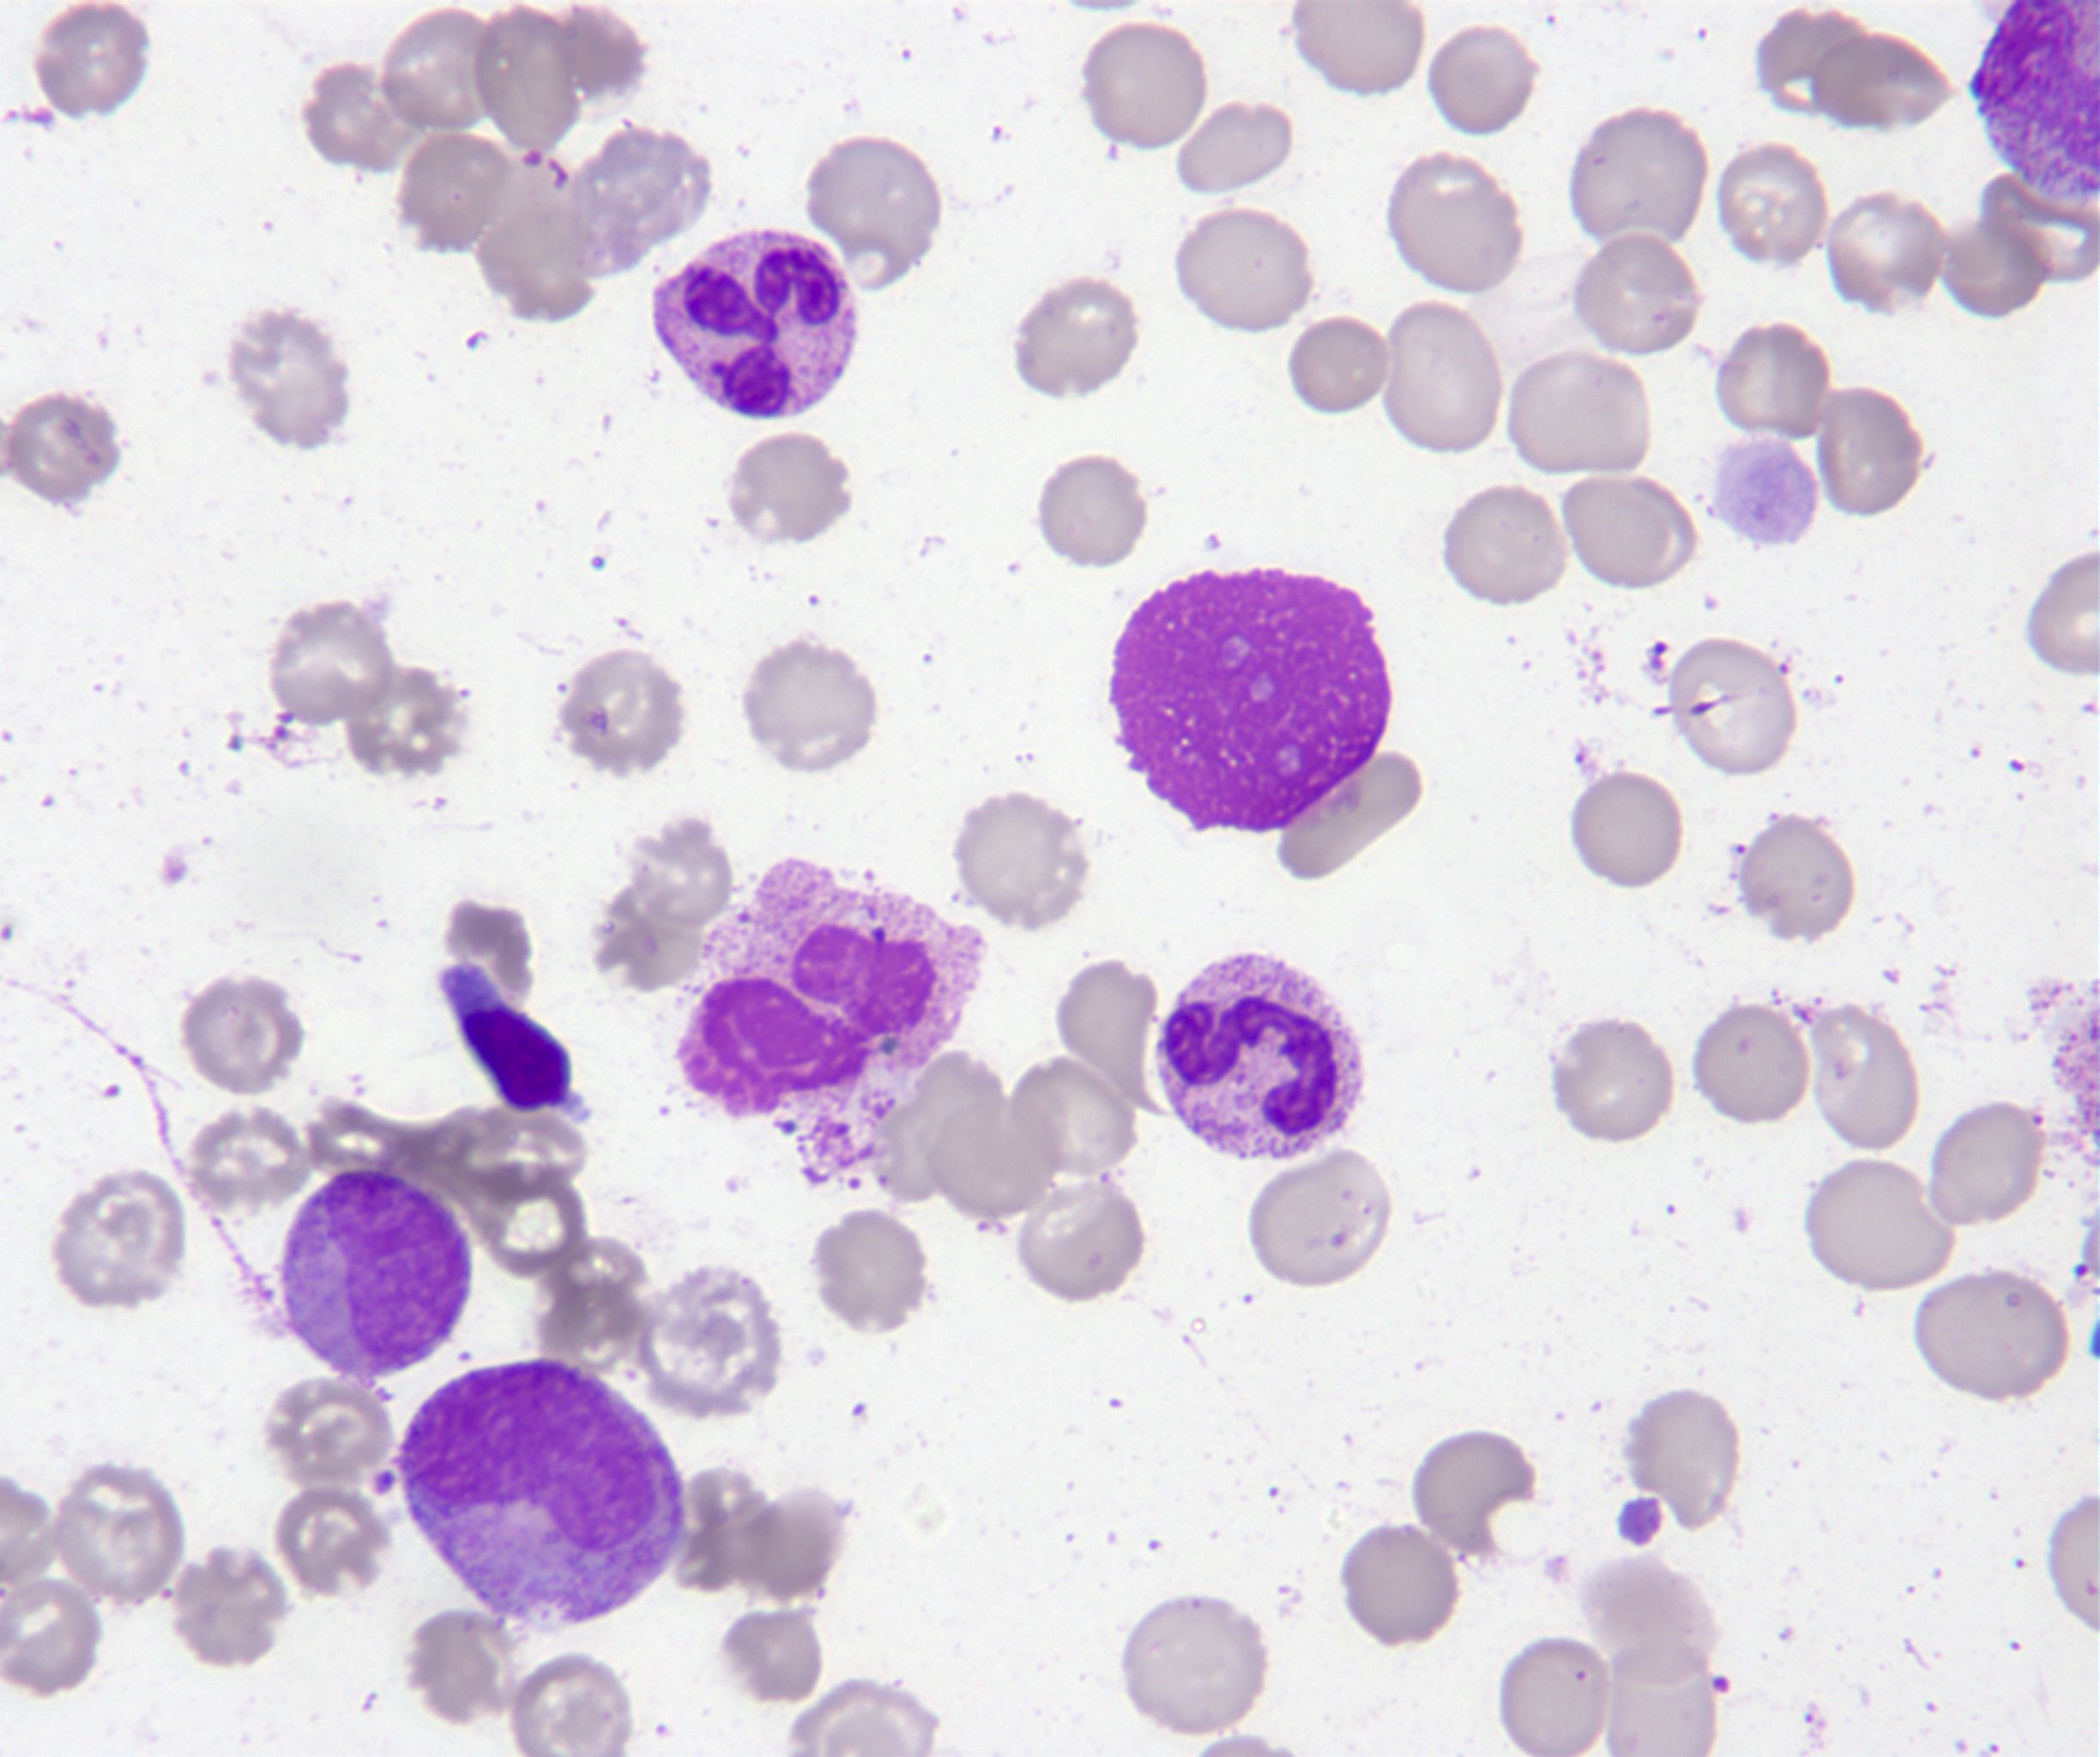3: (392, 1354, 692, 1640), (276, 1167, 480, 1385)
32: (433, 956, 577, 1120)
5: (1155, 940, 1369, 1166)
6: (633, 227, 862, 424)
x: (666, 848, 991, 1139), (1101, 558, 1401, 841)
